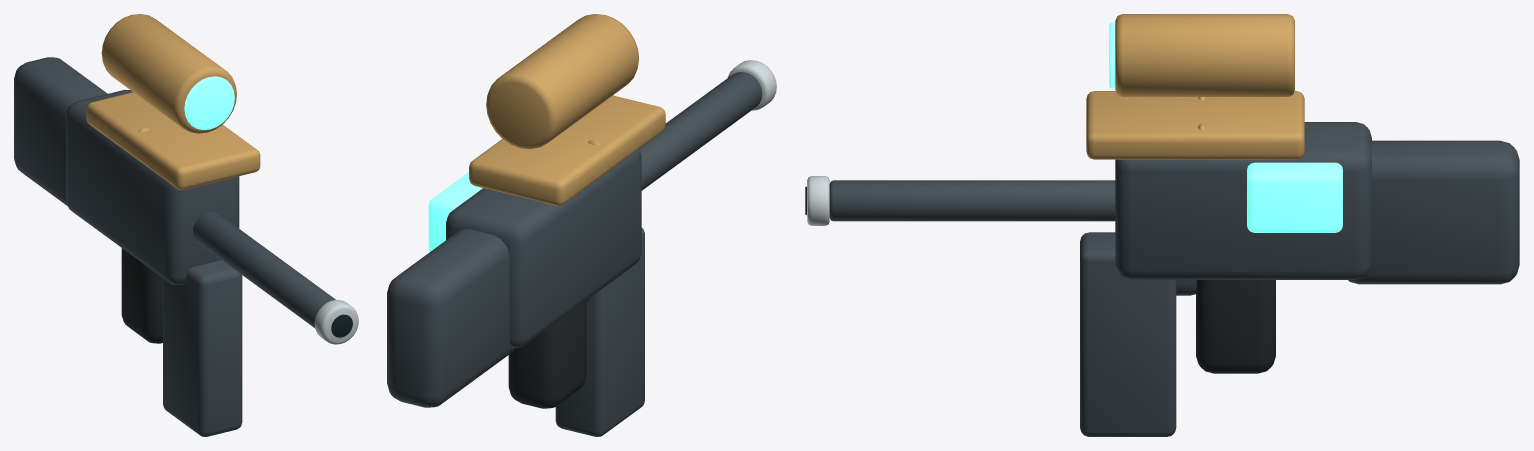
Rendered from ap_rifle.t4.glb.
3 renders of one model, left to right at view 1: azimuth 30°, elevation 25°; view 2: azimuth 150°, elevation 25°; view 3: azimuth 270°, elevation 25°, orthographic. The views are drawn at different scales.
Parts seen in each view (by area): view 1: weapon_right__forged_bluelead_steel__protected, weapon_right__worn_warm_brass__protected, weapon_right__charcoal_rubber__protected, weapon_right__mint_reticle__protected, weapon_right__honed_steel_edge__protected, weapon_right__eye_socket__protected; view 2: weapon_right__forged_bluelead_steel__protected, weapon_right__worn_warm_brass__protected, weapon_right__charcoal_rubber__protected, weapon_right__mint_reticle__protected, weapon_right__honed_steel_edge__protected; view 3: weapon_right__forged_bluelead_steel__protected, weapon_right__worn_warm_brass__protected, weapon_right__charcoal_rubber__protected, weapon_right__mint_reticle__protected, weapon_right__honed_steel_edge__protected.
Boxes of the visible parts, x1=… form: weapon_right__forged_bluelead_steel__protected: x1=14, y1=57, x2=335, y2=436; weapon_right__worn_warm_brass__protected: x1=86, y1=14, x2=260, y2=189; weapon_right__charcoal_rubber__protected: x1=121, y1=248, x2=162, y2=343; weapon_right__mint_reticle__protected: x1=184, y1=76, x2=234, y2=129; weapon_right__honed_steel_edge__protected: x1=314, y1=300, x2=358, y2=344; weapon_right__eye_socket__protected: x1=331, y1=314, x2=352, y2=337; weapon_right__forged_bluelead_steel__protected: x1=387, y1=72, x2=762, y2=436; weapon_right__worn_warm_brass__protected: x1=469, y1=14, x2=665, y2=205; weapon_right__charcoal_rubber__protected: x1=508, y1=300, x2=586, y2=408; weapon_right__mint_reticle__protected: x1=428, y1=172, x2=482, y2=251; weapon_right__honed_steel_edge__protected: x1=727, y1=60, x2=776, y2=110; weapon_right__forged_bluelead_steel__protected: x1=829, y1=122, x2=1519, y2=436; weapon_right__worn_warm_brass__protected: x1=1086, y1=14, x2=1304, y2=159; weapon_right__charcoal_rubber__protected: x1=1196, y1=280, x2=1275, y2=373; weapon_right__mint_reticle__protected: x1=1109, y1=22, x2=1342, y2=232; weapon_right__honed_steel_edge__protected: x1=807, y1=176, x2=829, y2=225.
Size of the model in its own units: 0.2279 by 0.7473 by 1.18.
